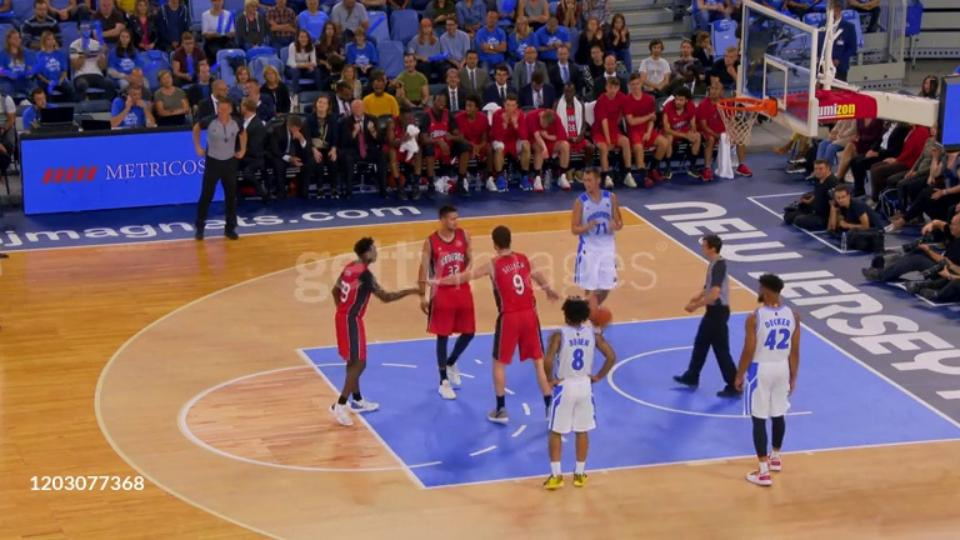hoop: (712, 92, 782, 119)
